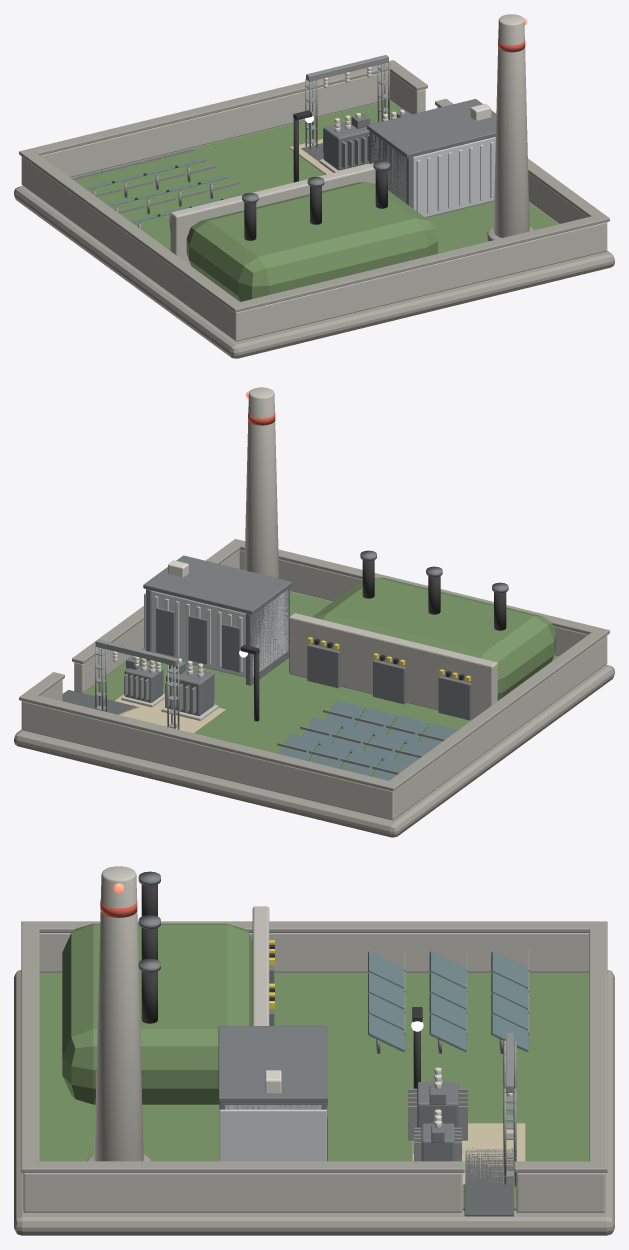
File: power_6.glb
3 renders of one model, top to bottom at view 1: azimuth 30°, elevation 25°; view 2: azimuth 150°, elevation 25°; view 3: azimuth 270°, elevation 25°, orthographic. The views are drawn at different scales.
Visible parts, largest first — view 1: Cube.003, Cube.001, Cube, Cube.105, Cube.103, Cone, Cube.107, Cube.047, Cube.060, Cube.106, Cube.004, Cube.104 (+10 smaller); view 2: Cube.003, Cube, Cube.103, Cube.001, Cube.004, Cube.107, Cone, Cube.060, Cube.047, Cube.104, Cube.108, Cube.105 (+24 smaller); view 3: Cube.001, Cube.003, Cube, Cube.111, Cube.107, Cone, Cube.060, Cube.059, Cube.112, Cube.108, Cube.106, Cube.104 (+22 smaller).
Boxes of the visible parts, box(x1,y1,x2,y2) form: Cube.003: box(186, 182, 437, 301); Cube.001: box(71, 101, 558, 253); Cube: box(14, 100, 614, 358); Cube.105: box(231, 222, 607, 341); Cube.103: box(21, 71, 387, 186); Cone: box(493, 14, 529, 237); Cube.107: box(24, 158, 231, 338); Cube.047: box(371, 133, 495, 217); Cube.060: box(367, 99, 496, 158); Cube.106: box(228, 213, 609, 312); Cube.004: box(170, 163, 375, 265); Cube.104: box(19, 60, 398, 156); Cube.003: box(313, 577, 556, 700); Cube: box(14, 591, 614, 837); Cube.103: box(21, 701, 396, 820); Cube.001: box(83, 591, 557, 776); Cube.004: box(289, 613, 497, 718); Cube.107: box(396, 638, 603, 817); Cone: box(244, 387, 278, 578); Cube.060: box(143, 555, 292, 614); Cube.047: box(151, 589, 288, 677); Cube.104: box(19, 692, 399, 791); Cube.108: box(388, 629, 606, 788); Cube.105: box(239, 549, 607, 665); Cube.001: box(39, 973, 589, 1210); Cube.003: box(62, 923, 252, 1104); Cube: box(14, 970, 614, 1235); Cube.111: box(32, 1173, 462, 1212); Cube.107: box(39, 933, 589, 972); Cone: box(94, 866, 143, 1161); Cube.060: box(218, 1026, 327, 1102); Cube.059: box(219, 1109, 326, 1161); Cube.112: box(29, 1161, 464, 1172); Cube.108: box(29, 921, 599, 932); Cube.106: box(21, 921, 39, 1172); Cube.104: box(589, 921, 607, 1172).
Size of the model in its own units: 2.92 by 1.72 by 2.92.
